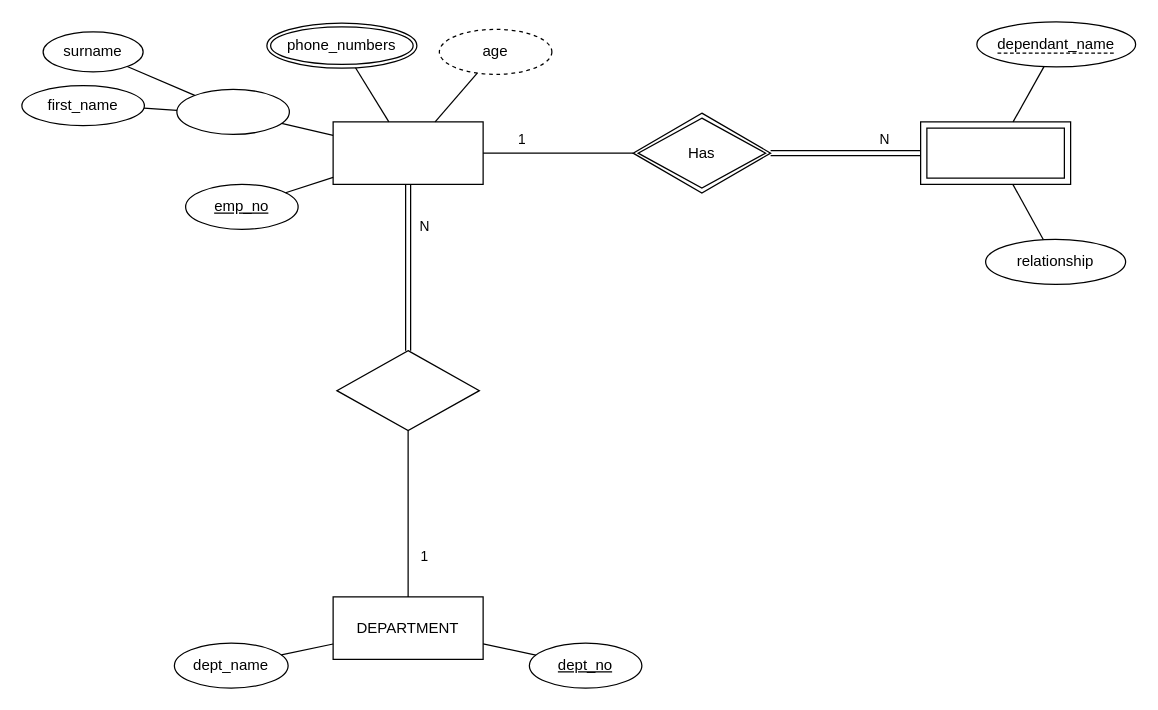
Image size: 1158x710. Some labels were removed from this diagram. The box of each missing label's shape, as (x1, y1, x2, y2) in pixels:
DEPENDANT: (919, 121, 1071, 184)
EMPLOYEE: (332, 121, 483, 184)
name: (176, 88, 289, 134)
Works_in: (336, 349, 479, 431)
